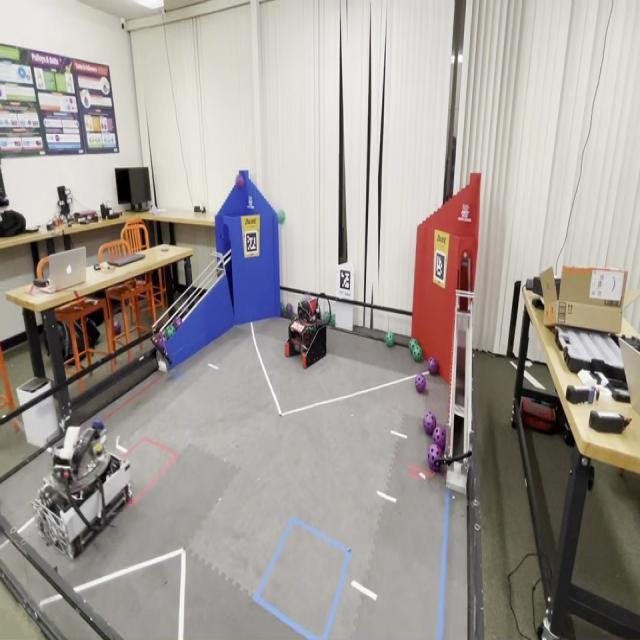artifact_green: (155, 333, 166, 352), (297, 297, 309, 314), (412, 345, 422, 362), (385, 331, 395, 347), (165, 325, 175, 340), (410, 344, 421, 357), (410, 339, 421, 351), (322, 311, 331, 324), (173, 317, 182, 330), (278, 209, 285, 225), (409, 338, 418, 350), (410, 339, 419, 350), (286, 303, 293, 317), (308, 325, 317, 334), (409, 344, 417, 353), (280, 303, 285, 315), (331, 313, 335, 327), (410, 337, 418, 344), (410, 348, 415, 359), (298, 298, 305, 304), (416, 343, 421, 350)
artifact_purple: (428, 444, 442, 471), (433, 426, 446, 450), (424, 412, 436, 436), (415, 374, 426, 393), (428, 356, 438, 375), (156, 334, 165, 350), (236, 174, 244, 189), (286, 303, 294, 317), (173, 317, 182, 329), (114, 320, 121, 335)
